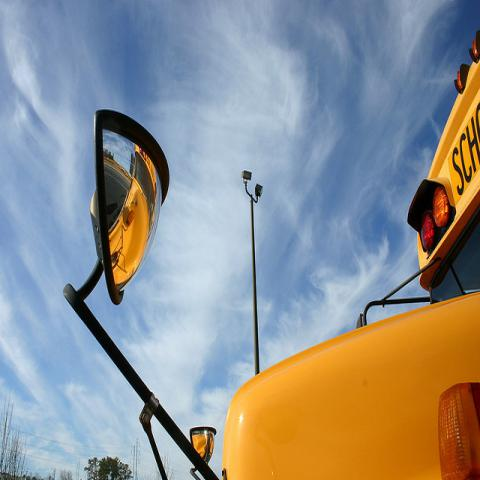bus: (63, 32, 479, 476)
